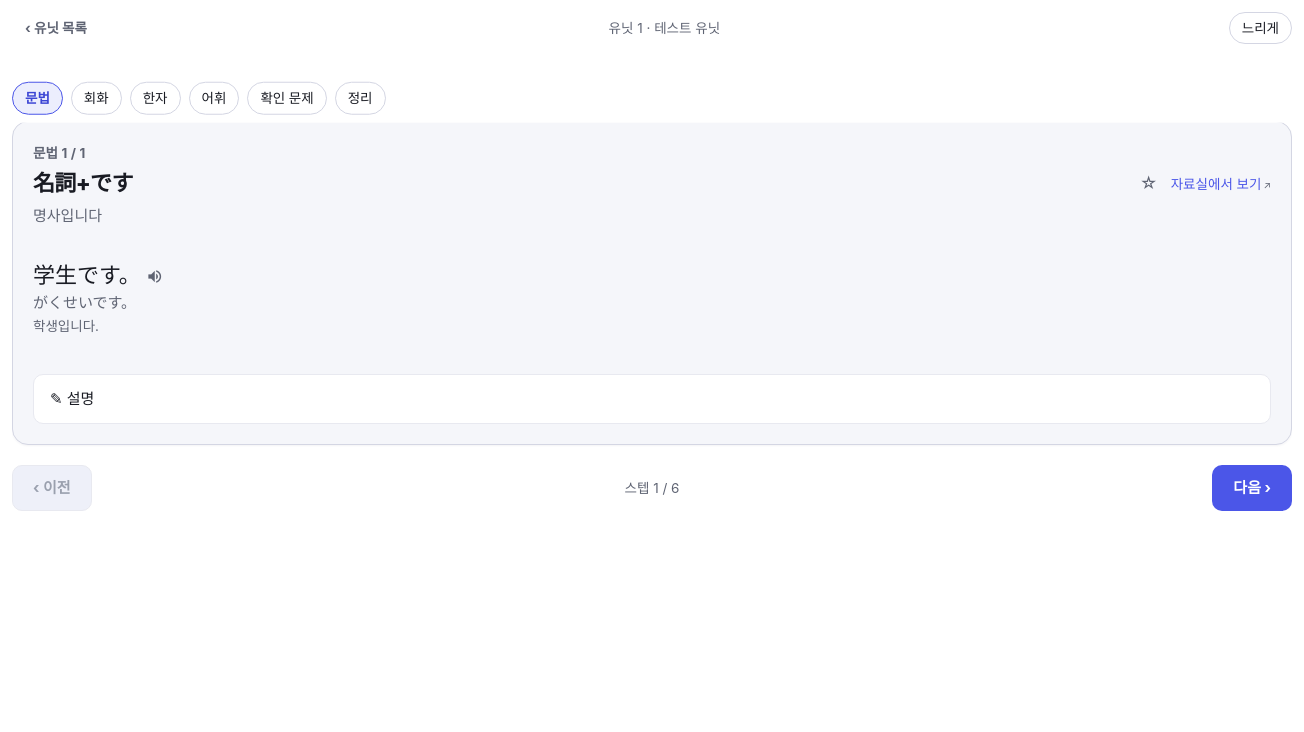
Test case: 일본어 유닛 — 학습 도구가 실제로 켜진다 (대칭의 반대편) › 회화 스텝에 [전체 재생]이 있다
What coordinates should you click on to do the following:
click the button "회화"
I would click on:
 (96, 98)
Its box is x1=71 y1=82 x2=122 y2=114.
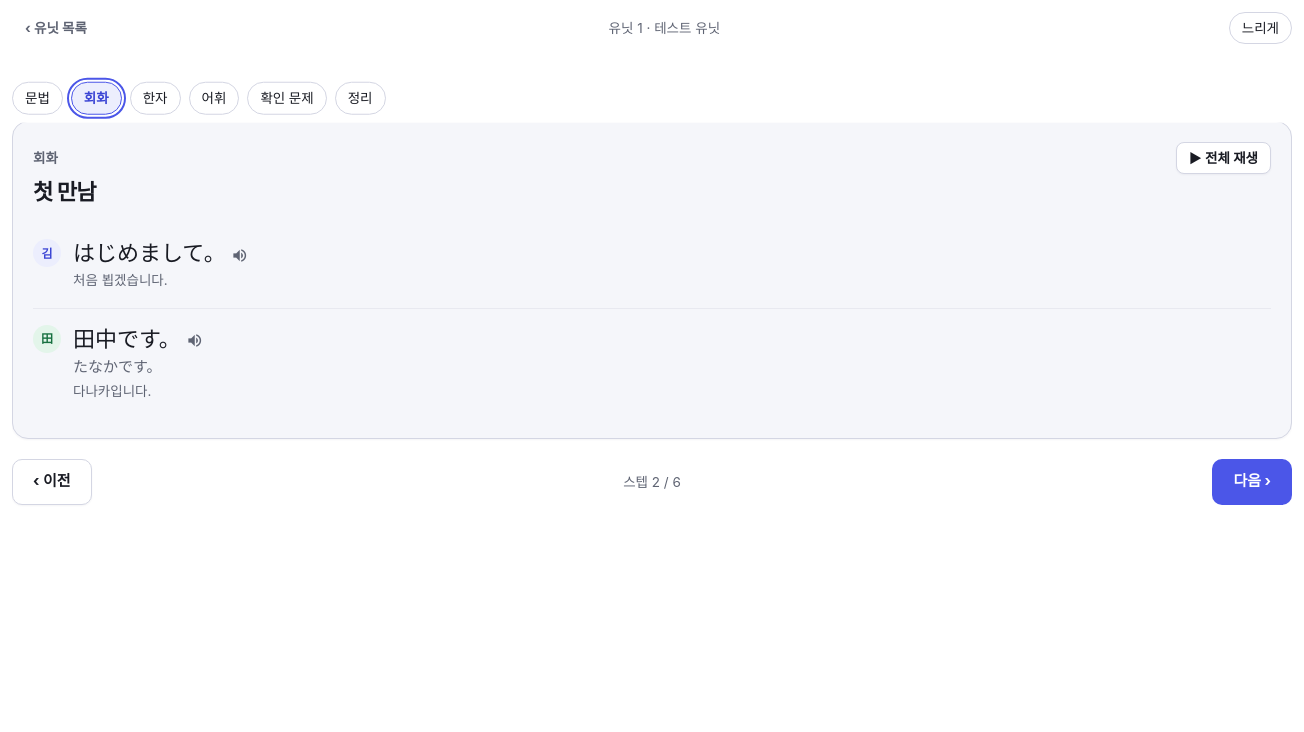
Now the button "▶ 전체 재생" is shown, box x1=1176 y1=142 x2=1271 y2=174
